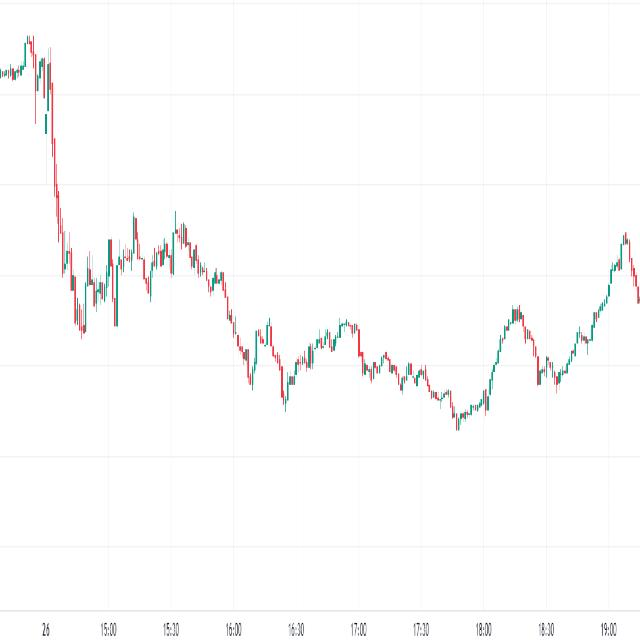Inverse-Head-Shoulders: (51, 206, 110, 354)
